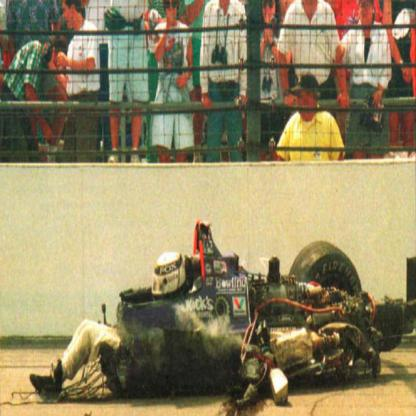face: (298, 88, 311, 120), (360, 2, 373, 27), (63, 1, 74, 30), (50, 48, 65, 69), (263, 1, 276, 25), (167, 1, 178, 23)
